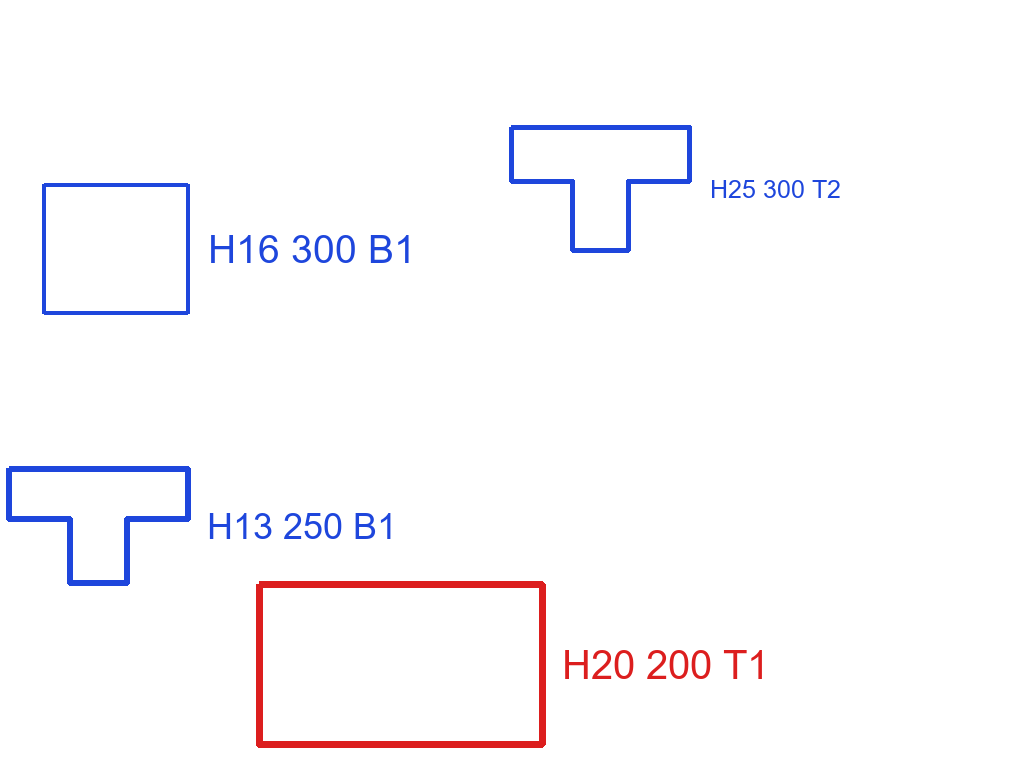shape: (254, 579, 548, 750), (507, 123, 694, 255), (5, 464, 192, 589), (40, 181, 192, 318)
text: (560, 648, 771, 681), (206, 233, 418, 265), (205, 511, 399, 541), (708, 178, 843, 200)
